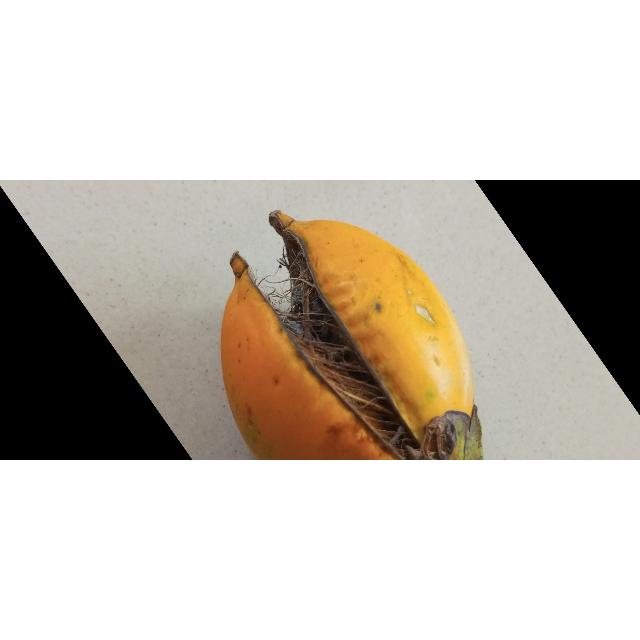damaged: (219, 211, 482, 461)
